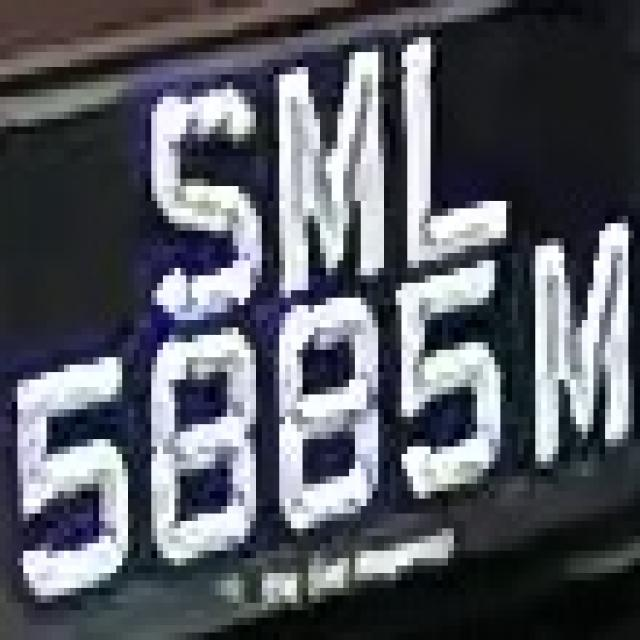5: (12, 320, 128, 625), (390, 246, 518, 506)
8: (134, 312, 279, 580), (262, 276, 390, 544)
L: (384, 37, 524, 253)
M: (250, 22, 384, 290), (523, 223, 640, 498)
S: (128, 96, 273, 312)
